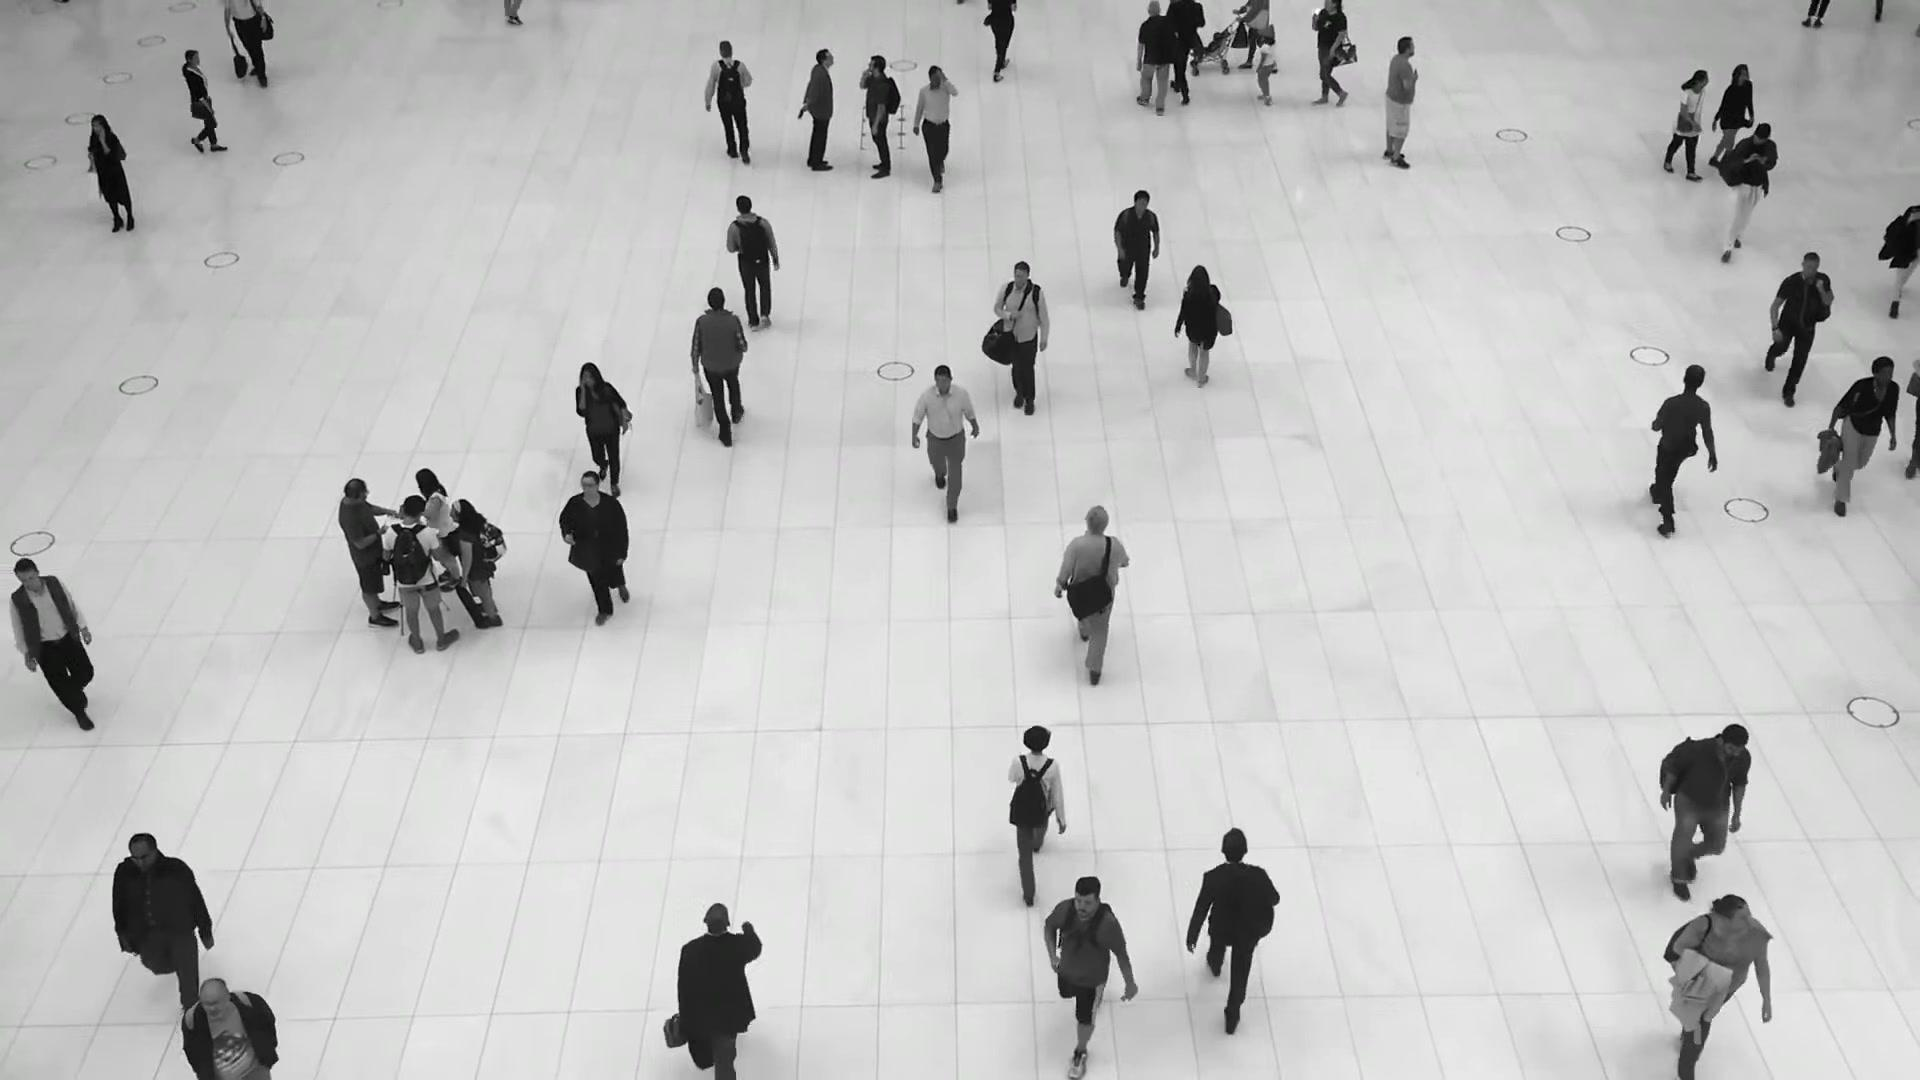person: (1038, 872, 1135, 1080), (113, 835, 210, 1045), (1186, 828, 1278, 1035), (659, 898, 763, 1079), (1655, 727, 1751, 909), (11, 558, 105, 736), (1663, 898, 1766, 1056), (557, 472, 641, 632), (1823, 355, 1899, 522), (1054, 503, 1130, 666), (383, 494, 459, 653), (1645, 361, 1716, 523), (1763, 249, 1835, 402), (180, 974, 282, 1079), (914, 361, 981, 513), (1007, 720, 1067, 885), (338, 477, 401, 629), (691, 288, 748, 450), (994, 265, 1050, 421), (1714, 121, 1775, 261), (728, 196, 785, 338), (573, 363, 632, 482), (450, 498, 502, 628), (1108, 188, 1162, 308), (706, 39, 755, 167), (1171, 267, 1219, 392), (1662, 68, 1713, 182), (913, 64, 958, 194), (86, 113, 135, 232), (180, 49, 233, 153), (414, 468, 459, 592), (1133, 1, 1179, 116), (859, 54, 901, 180), (1382, 34, 1420, 168), (1703, 63, 1751, 165), (799, 48, 835, 171), (1165, 0, 1205, 105), (1309, 0, 1348, 108), (1239, 0, 1278, 69), (1252, 32, 1276, 104)
